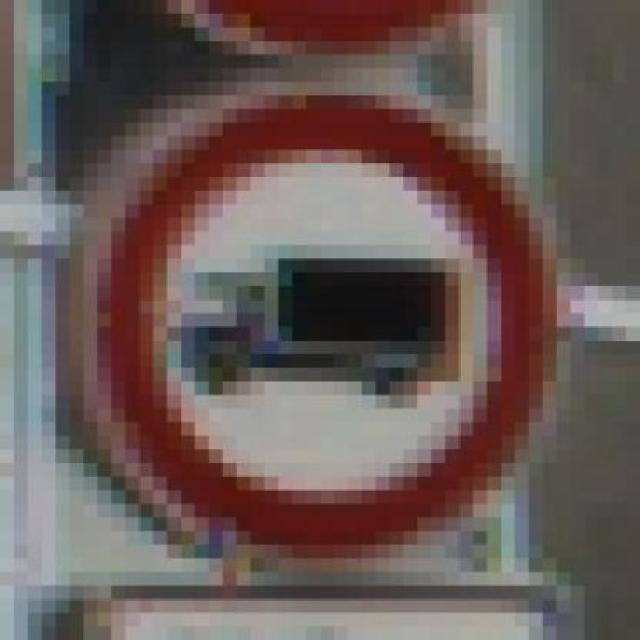Truck traffic is prohibited: (28, 82, 557, 572)
